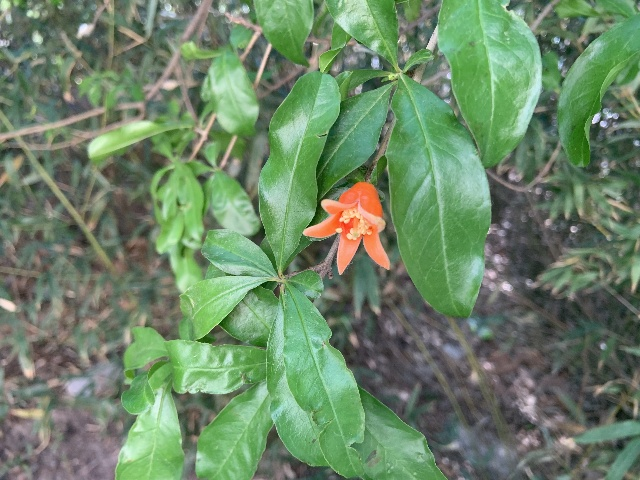flower: (302, 182, 389, 274)
